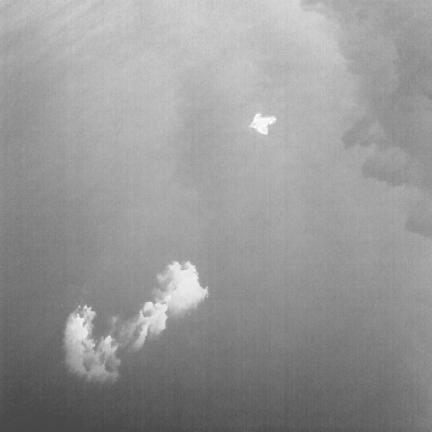flukeprints: (158, 262, 207, 313), (131, 300, 167, 349), (249, 113, 276, 134), (95, 336, 117, 360), (70, 312, 88, 339)
